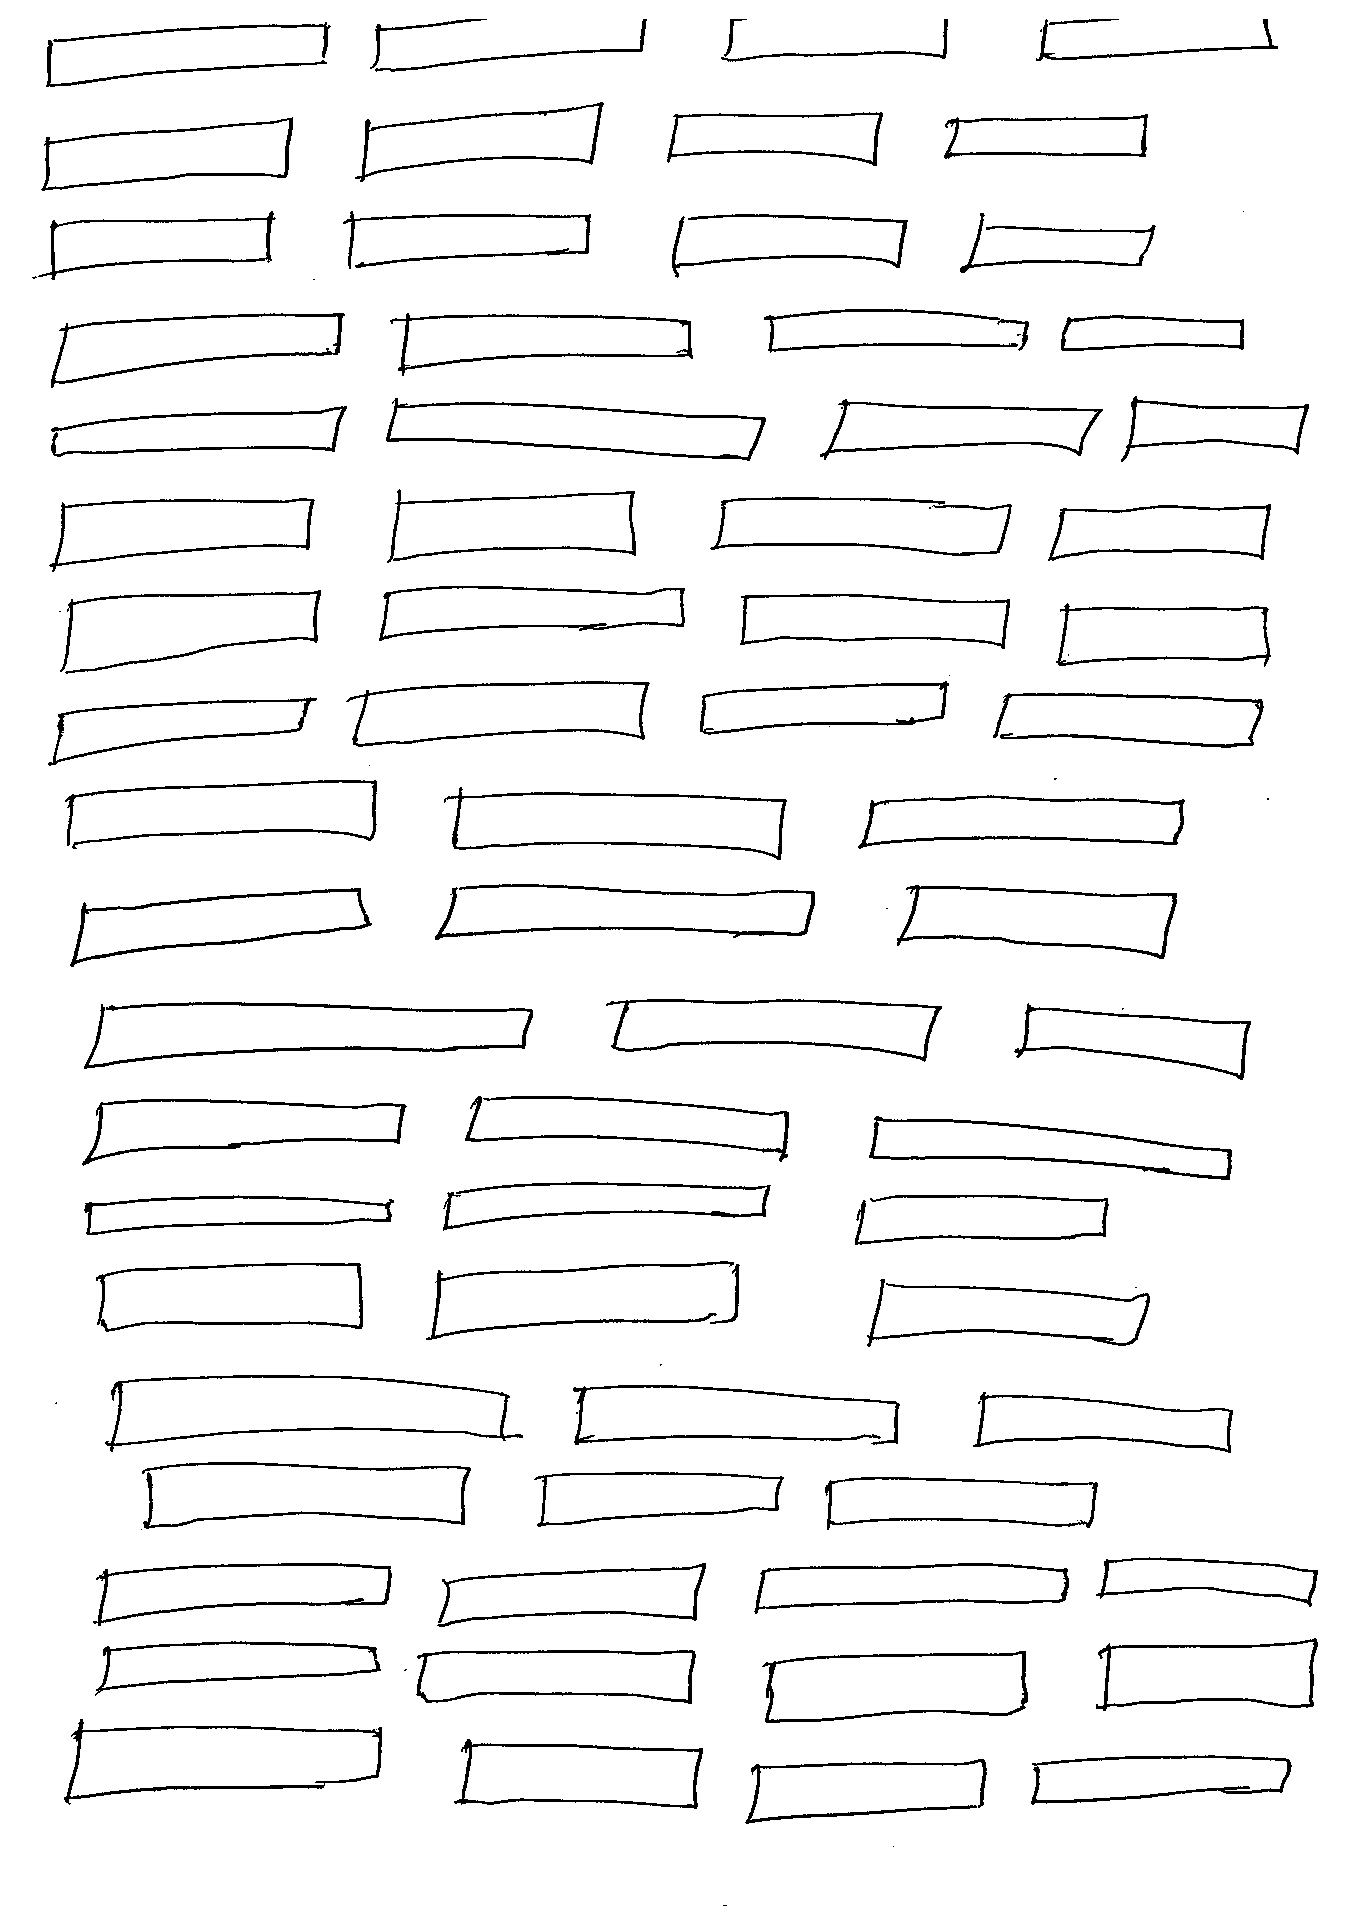Textbox: (106, 1369, 512, 1452), (86, 1000, 537, 1070), (59, 1721, 381, 1804), (866, 1112, 1237, 1181), (387, 393, 766, 461), (432, 1261, 747, 1343), (72, 886, 367, 971), (449, 787, 791, 859), (435, 878, 818, 942), (140, 1459, 478, 1530), (67, 776, 377, 852), (49, 310, 347, 389), (571, 1377, 900, 1448), (899, 878, 1180, 961), (614, 997, 939, 1066), (86, 1097, 407, 1167), (61, 587, 324, 671), (869, 1276, 1152, 1354), (352, 679, 649, 751), (95, 1260, 370, 1337), (466, 1091, 789, 1156), (98, 1557, 396, 1626), (761, 1652, 1036, 1727), (457, 1734, 707, 1817), (376, 581, 690, 646), (52, 494, 310, 571), (359, 102, 606, 180), (714, 492, 1011, 557), (41, 114, 296, 189), (1022, 1002, 1252, 1085), (399, 310, 696, 374), (971, 1385, 1234, 1456), (44, 22, 324, 89), (1097, 1637, 1329, 1717), (860, 793, 1187, 849), (439, 1177, 772, 1232), (386, 491, 642, 562), (55, 696, 310, 767), (436, 1561, 696, 1631), (754, 1561, 1076, 1616), (99, 1637, 389, 1697), (992, 686, 1264, 750), (741, 591, 1013, 654), (820, 1471, 1098, 1532), (819, 396, 1101, 455), (49, 402, 344, 458), (742, 1757, 989, 1819), (696, 676, 948, 736), (670, 208, 908, 272), (854, 1189, 1112, 1246), (87, 1192, 395, 1239), (346, 211, 588, 271), (1056, 602, 1271, 667), (1027, 1752, 1291, 1804), (761, 306, 1029, 356), (49, 216, 271, 276), (667, 106, 883, 166), (1051, 503, 1267, 562), (1124, 393, 1308, 461), (964, 211, 1159, 271), (939, 111, 1152, 163), (1097, 1552, 1316, 1601), (1056, 310, 1249, 353)
